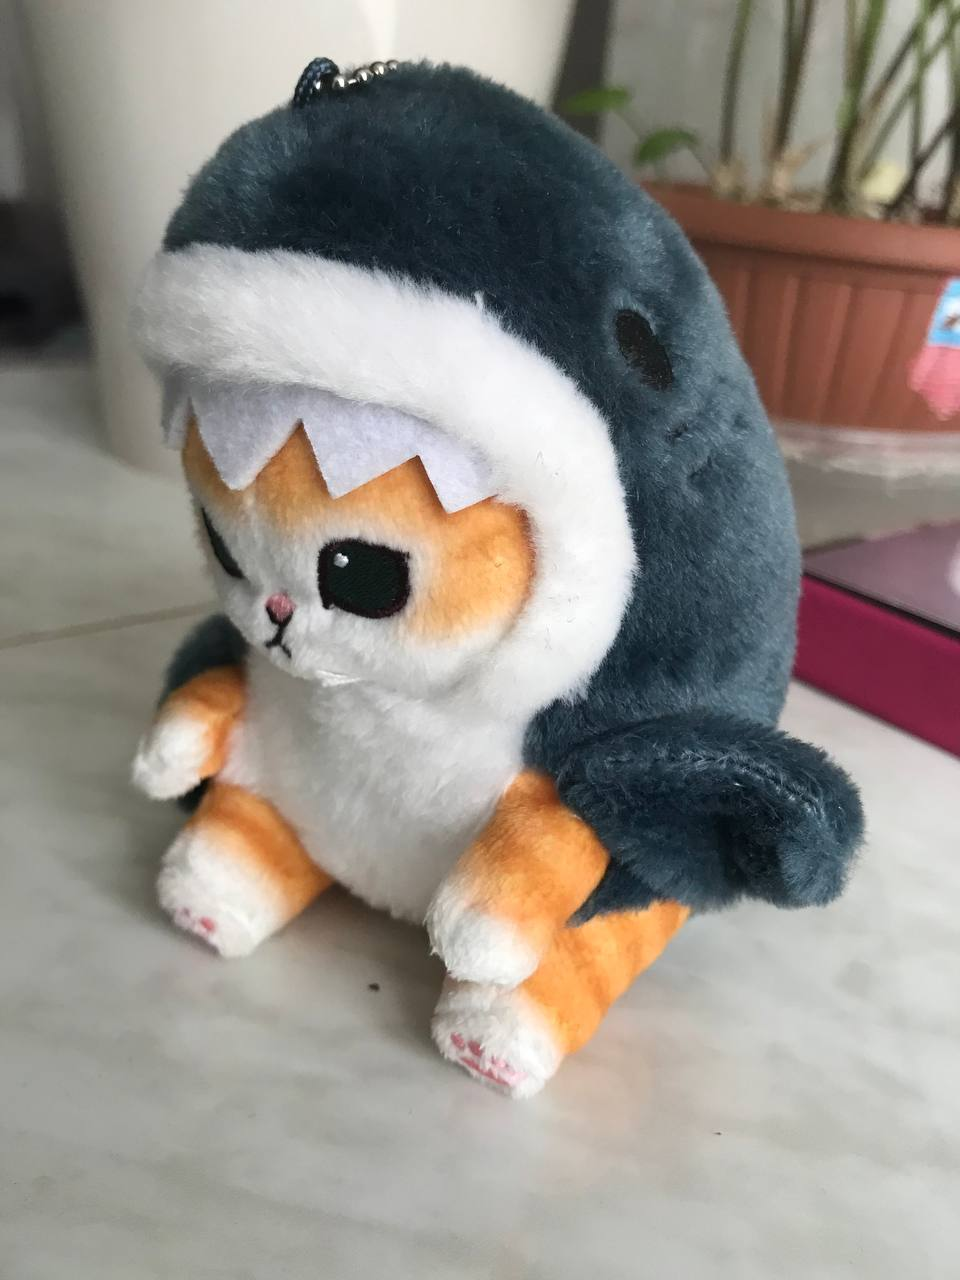cat_shark: (126, 58, 868, 1104)
